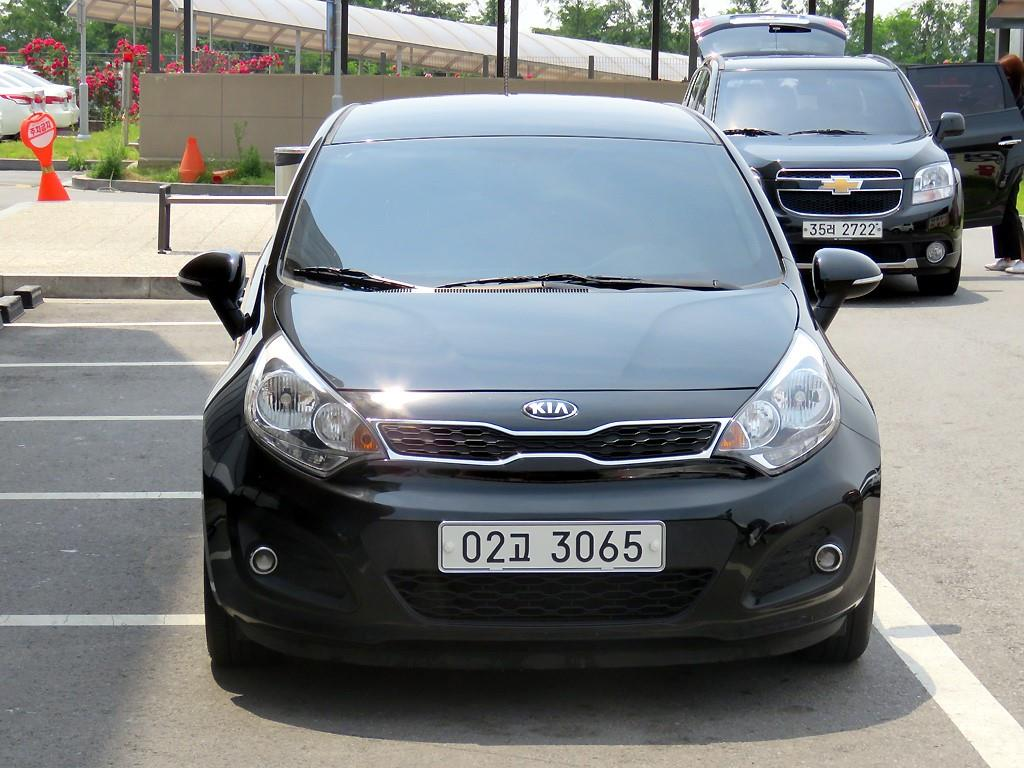plate: (441, 525, 664, 570)
